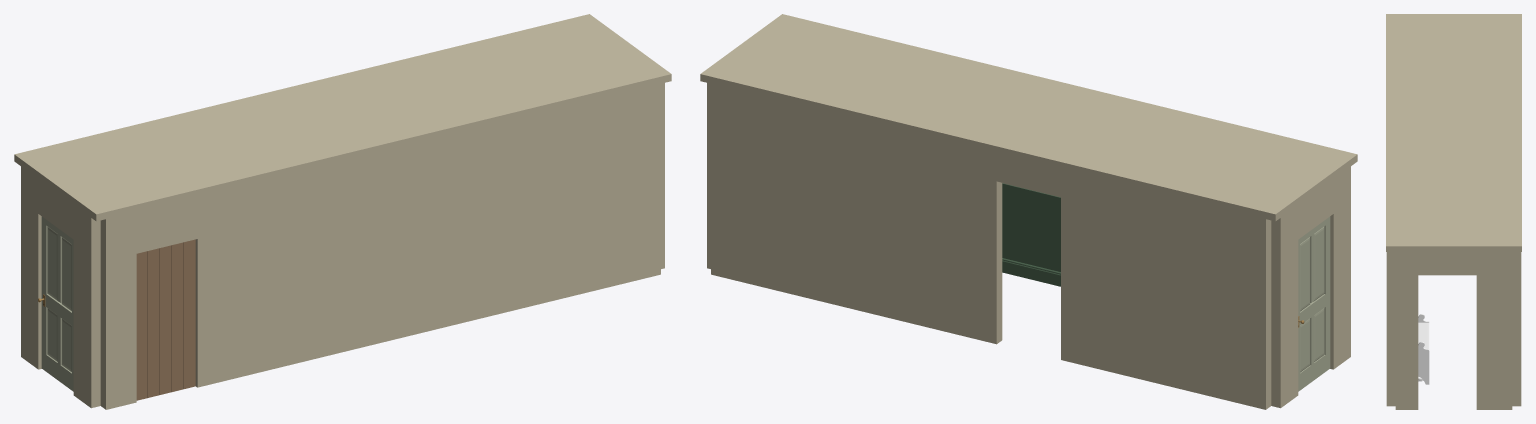
Rendered from corridor.glb.
The picture shows the model from 3 angles, left to right: view 1: azimuth 30°, elevation 25°; view 2: azimuth 150°, elevation 25°; view 3: azimuth 270°, elevation 25°; orthographic projection. The views are drawn at different scales.
Parts seen in each view (by area): view 1: ROOM__corridor, LEAF__back_stair__0; view 2: ROOM__corridor, LEAF__back_stair__0; view 3: ROOM__corridor, painted_wooden_bench.
Boxes of the visible parts, x1=… form: ROOM__corridor: x1=14, y1=14, x2=671, y2=409; LEAF__back_stair__0: x1=38, y1=216, x2=73, y2=391; ROOM__corridor: x1=700, y1=14, x2=1357, y2=409; LEAF__back_stair__0: x1=1298, y1=216, x2=1330, y2=391; ROOM__corridor: x1=1386, y1=14, x2=1521, y2=409; painted_wooden_bench: x1=1418, y1=314, x2=1429, y2=384.
Bounding box in the file's own units: 8.53 × 2.95 × 2.1.
